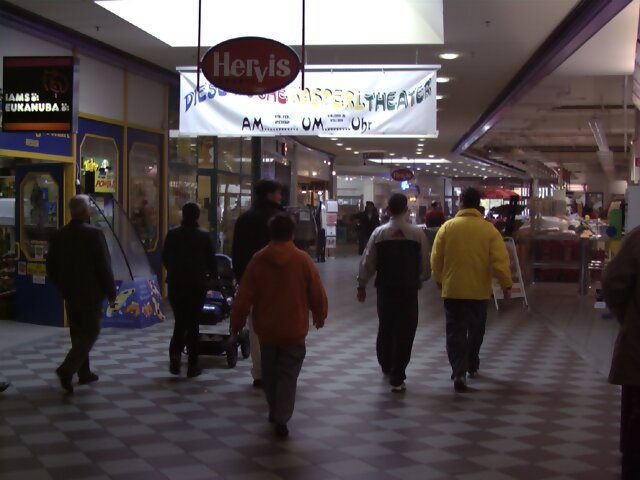person: (227, 207, 347, 449), (351, 187, 436, 408), (427, 174, 510, 393), (52, 193, 115, 389), (158, 197, 217, 378)
